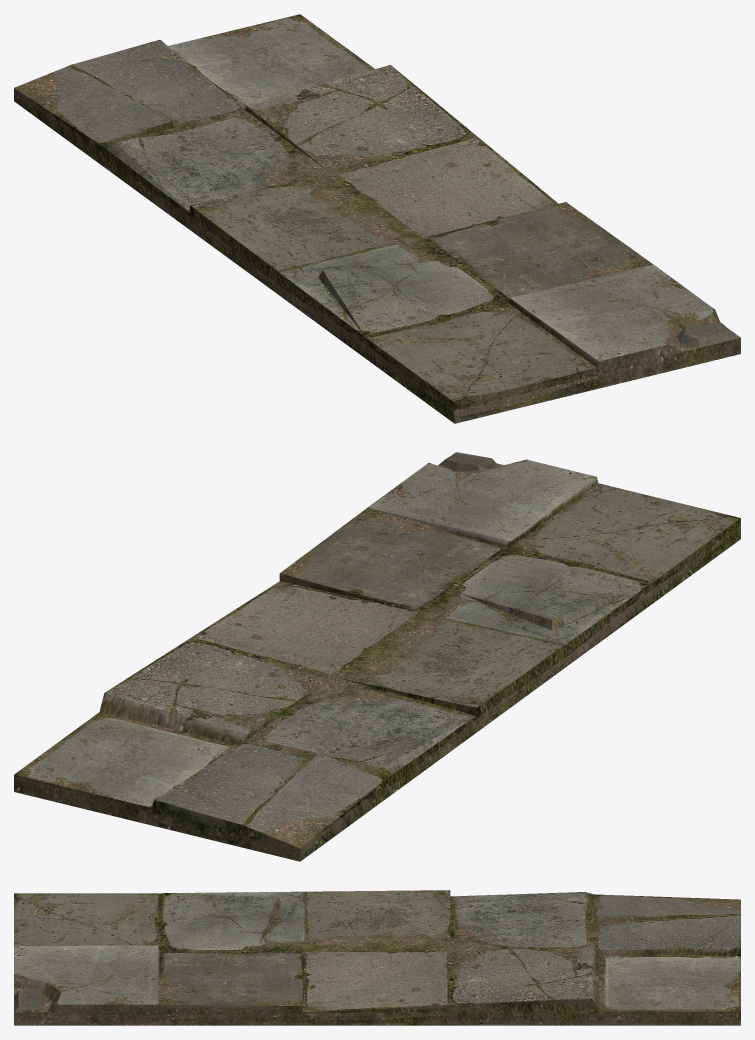
Rendered from bg_lut_lutomb_floorpiece01a_sm_old.FBX.
The picture shows the model from 3 angles, top to bottom: view 1: azimuth 30°, elevation 25°; view 2: azimuth 150°, elevation 25°; view 3: azimuth 270°, elevation 25°; orthographic projection. The views are drawn at different scales.
Parts seen in each view (by area): view 1: bg_lut_lutomb_floorpiece01a_sm_old; view 2: bg_lut_lutomb_floorpiece01a_sm_old; view 3: bg_lut_lutomb_floorpiece01a_sm_old.
Part boxes in pixels (<box>): bg_lut_lutomb_floorpiece01a_sm_old: <box>14,14,740,423</box>; bg_lut_lutomb_floorpiece01a_sm_old: <box>14,452,740,861</box>; bg_lut_lutomb_floorpiece01a_sm_old: <box>14,890,740,1025</box>.
Size of the model in its own units: 96 by 10.5 by 256.
